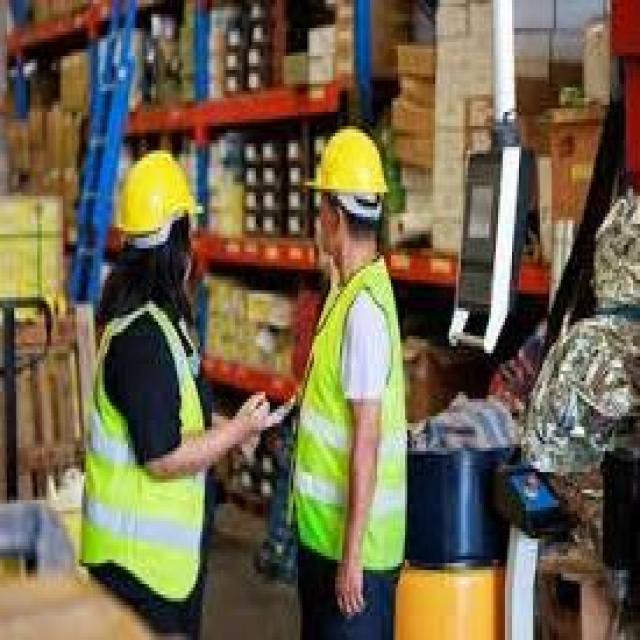Reflective-Jacket: (67, 290, 219, 609), (286, 259, 414, 580)
Safety-Helmet: (96, 140, 207, 266), (300, 115, 398, 214)
